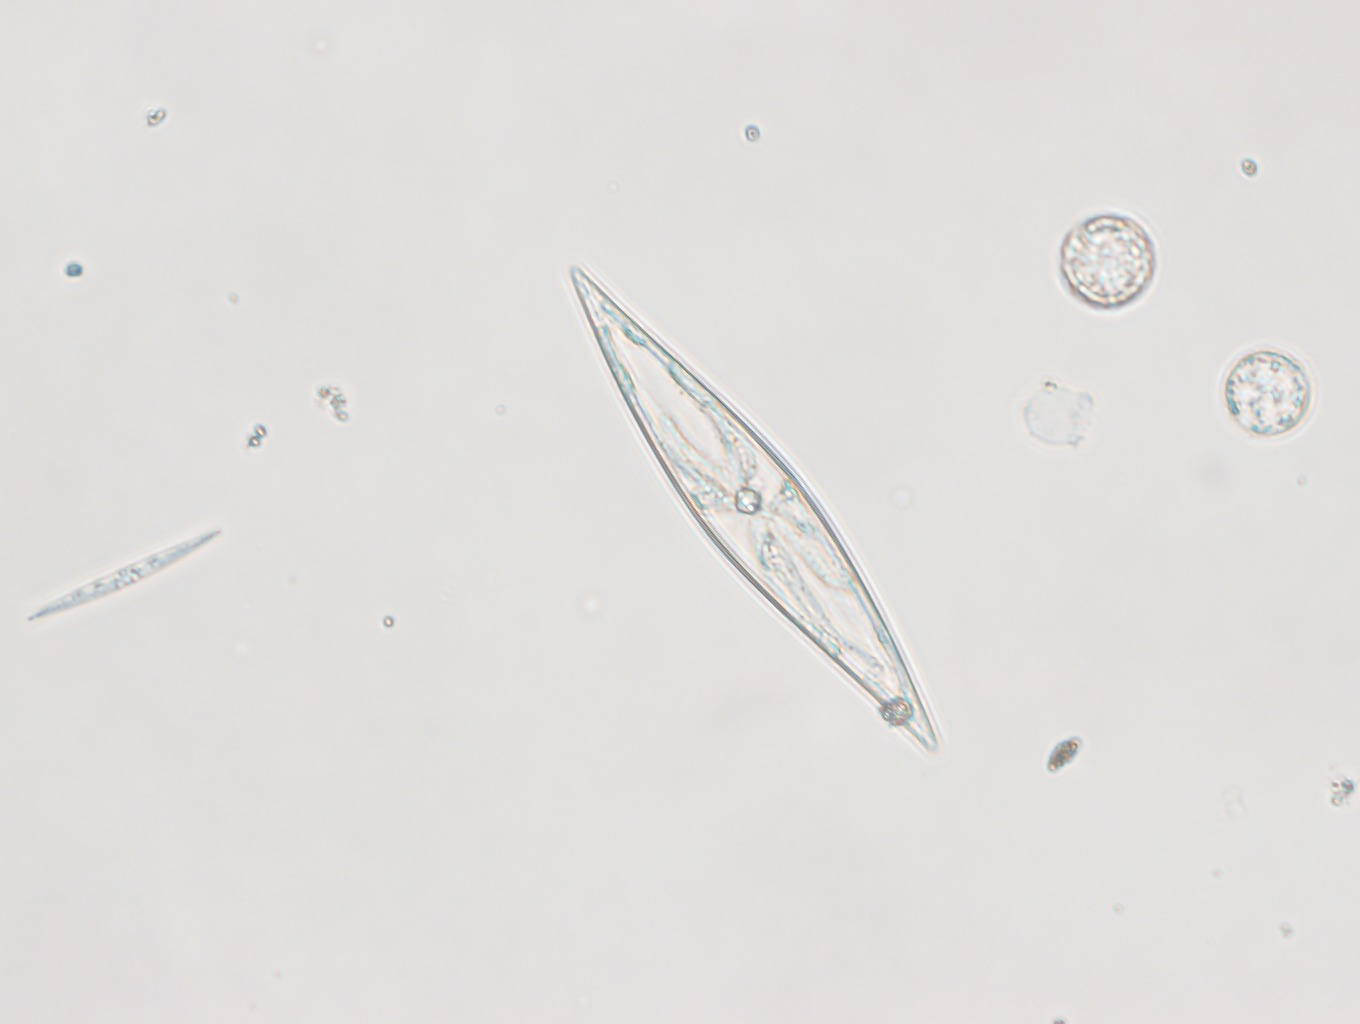pleurosigma pelagicum: (567, 264, 939, 756), (25, 523, 223, 624)
